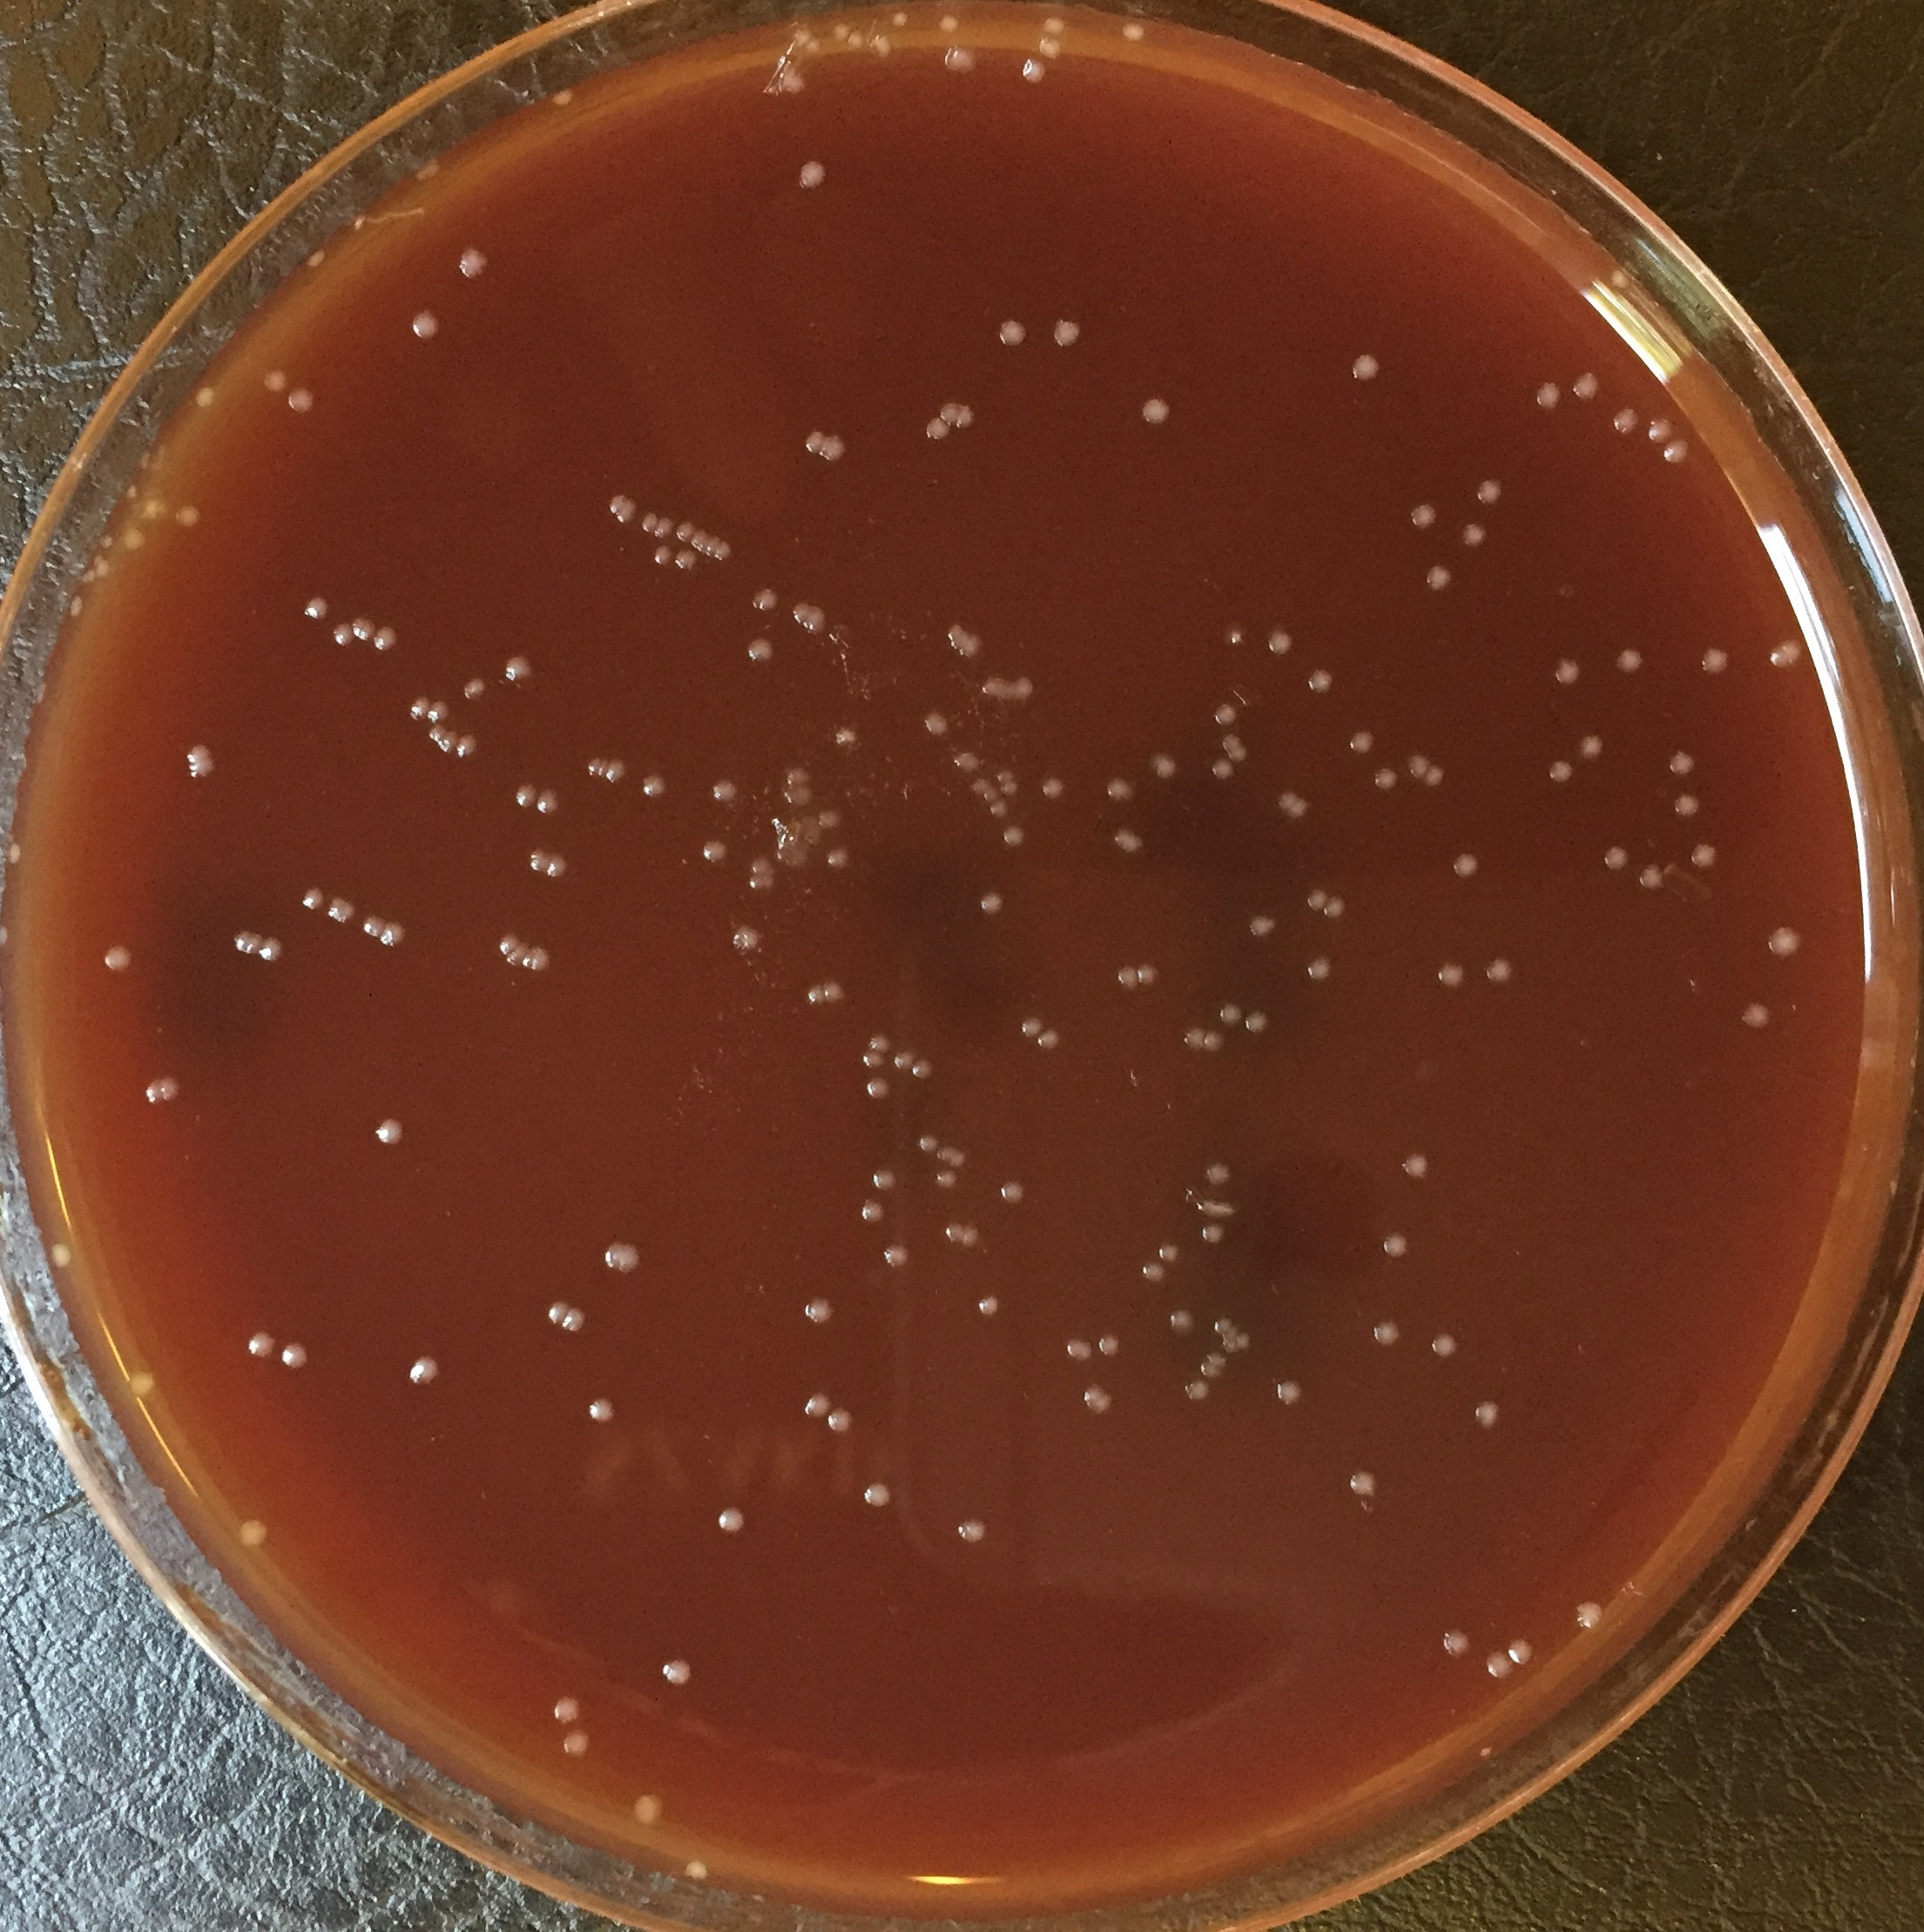sp23: (798, 1292, 849, 1334), (0, 820, 39, 873), (631, 1791, 671, 1830), (1149, 746, 1186, 786), (795, 153, 830, 194), (770, 60, 810, 95), (1191, 1190, 1235, 1222), (102, 943, 141, 978), (296, 247, 333, 282), (1050, 314, 1084, 353), (943, 44, 981, 78), (657, 1655, 698, 1687), (999, 820, 1034, 855), (1469, 1396, 1505, 1431), (1767, 925, 1802, 961), (715, 1502, 752, 1535), (997, 316, 1034, 349), (1136, 393, 1173, 427), (728, 925, 763, 959), (539, 78, 574, 111), (872, 30, 907, 63), (1348, 353, 1385, 384), (1099, 776, 1138, 806), (1082, 1382, 1115, 1416), (1274, 1377, 1307, 1410), (1438, 1627, 1471, 1661), (1570, 372, 1603, 405), (456, 247, 492, 279), (411, 307, 442, 342), (241, 1329, 278, 1359), (1166, 1306, 1198, 1340), (856, 1197, 890, 1229), (127, 1366, 160, 1398), (238, 1516, 271, 1548), (155, 1070, 187, 1103), (1545, 756, 1579, 788), (118, 525, 152, 557), (981, 673, 1017, 703), (407, 1356, 442, 1386), (284, 384, 319, 414), (62, 596, 86, 638), (1381, 1229, 1413, 1260), (1698, 645, 1730, 677), (1550, 656, 1582, 687), (1348, 726, 1380, 758), (1473, 476, 1505, 508), (523, 945, 557, 975), (1399, 1151, 1432, 1181), (1644, 412, 1674, 446), (1017, 55, 1050, 85), (640, 767, 670, 800), (699, 836, 729, 869), (747, 585, 781, 615), (1485, 1648, 1515, 1680), (1506, 1634, 1536, 1666), (1203, 1158, 1233, 1190), (278, 1340, 308, 1371), (802, 1391, 835, 1419), (1429, 1329, 1462, 1357), (1244, 1005, 1272, 1038), (374, 1118, 407, 1146), (1265, 629, 1299, 658), (1306, 668, 1339, 696), (1535, 377, 1563, 411), (957, 1516, 987, 1546), (707, 774, 736, 804), (1371, 1320, 1402, 1349), (1575, 1601, 1603, 1632), (1743, 999, 1771, 1031), (1434, 961, 1466, 989), (869, 1165, 900, 1193), (255, 933, 284, 964), (1612, 647, 1644, 675), (1422, 564, 1454, 592), (934, 11, 966, 39), (821, 843, 849, 874), (1348, 1468, 1381, 1495), (1635, 862, 1669, 888), (560, 1729, 594, 1756), (51, 1239, 78, 1273), (169, 506, 204, 531), (805, 35, 828, 72), (883, 1241, 913, 1269), (328, 895, 356, 925), (1575, 732, 1605, 760), (1210, 754, 1239, 784), (1408, 501, 1438, 529), (1034, 30, 1062, 60), (303, 594, 333, 622), (920, 709, 948, 739), (1484, 955, 1515, 982), (1602, 844, 1630, 873), (358, 910, 386, 938), (379, 920, 407, 948), (1667, 747, 1695, 776), (506, 654, 534, 682), (784, 783, 812, 811), (978, 888, 1006, 917), (823, 1408, 853, 1435), (551, 1698, 581, 1724), (684, 1854, 714, 1881), (951, 746, 981, 772), (190, 384, 222, 409), (863, 1481, 892, 1507), (1064, 1336, 1092, 1363), (1114, 964, 1142, 991), (1020, 1014, 1048, 1040), (863, 1075, 892, 1102), (1140, 1260, 1168, 1287), (513, 781, 539, 809), (1404, 753, 1431, 781), (934, 398, 960, 427), (1117, 19, 1145, 46), (261, 368, 289, 395), (329, 620, 358, 647), (833, 725, 862, 751), (807, 603, 832, 633), (1200, 1222, 1230, 1246), (618, 1243, 641, 1274), (548, 850, 571, 881), (604, 753, 627, 784), (745, 638, 777, 661), (0, 915, 18, 955), (187, 760, 220, 781), (544, 1299, 571, 1326), (588, 1396, 615, 1423), (1307, 955, 1334, 982), (1135, 961, 1161, 987), (1217, 1001, 1244, 1028), (1001, 1179, 1027, 1206), (137, 1079, 164, 1105), (300, 885, 326, 911), (1223, 622, 1249, 649), (564, 1304, 588, 1333), (1688, 844, 1716, 869), (1247, 913, 1276, 938), (1203, 1026, 1228, 1054), (911, 1056, 939, 1081), (934, 1167, 962, 1192), (534, 786, 559, 814), (1776, 636, 1804, 661), (1374, 765, 1399, 793), (1219, 728, 1247, 753), (1612, 404, 1637, 432), (1663, 439, 1691, 464), (819, 437, 847, 462), (374, 624, 398, 652), (1182, 1377, 1212, 1400), (1452, 853, 1478, 878), (893, 1047, 918, 1074), (506, 940, 530, 966), (1765, 645, 1792, 670), (1672, 791, 1697, 818), (1462, 520, 1489, 545), (923, 418, 950, 442), (800, 428, 826, 453), (1040, 14, 1066, 39), (351, 617, 377, 642), (426, 698, 451, 725), (955, 405, 978, 434), (782, 763, 810, 786), (527, 844, 548, 874), (1321, 895, 1346, 920), (976, 1292, 1001, 1317), (1212, 702, 1237, 726), (823, 980, 847, 1005), (1041, 776, 1066, 800), (1038, 1029, 1064, 1052), (497, 931, 520, 957), (407, 695, 430, 721), (747, 874, 775, 895), (791, 19, 809, 53), (967, 779, 997, 799), (1098, 1333, 1122, 1356), (1424, 762, 1447, 786), (462, 677, 486, 700), (437, 730, 460, 754), (788, 599, 812, 622), (886, 9, 913, 30), (603, 1239, 622, 1267), (749, 857, 777, 876), (460, 730, 477, 760), (960, 638, 983, 661), (1184, 1026, 1207, 1049), (916, 1132, 939, 1155), (1158, 1241, 1180, 1264), (987, 797, 1010, 820), (1304, 888, 1328, 910), (869, 1033, 893, 1054), (936, 1144, 960, 1165), (960, 1222, 981, 1246), (231, 929, 252, 954), (818, 806, 842, 827), (618, 499, 640, 524), (1270, 790, 1299, 807), (1288, 797, 1311, 818), (1124, 832, 1147, 853), (606, 494, 629, 515), (675, 520, 696, 543), (677, 548, 698, 571), (187, 742, 213, 760), (847, 32, 869, 53), (652, 545, 673, 566), (1200, 1361, 1223, 1380), (1235, 1329, 1254, 1352), (803, 982, 823, 1005), (1018, 673, 1038, 696), (714, 541, 733, 564), (247, 929, 263, 955), (1212, 1313, 1232, 1334), (944, 1222, 964, 1243), (1228, 744, 1249, 763), (428, 721, 448, 742), (655, 518, 675, 539), (1207, 1350, 1230, 1368), (828, 26, 853, 42), (97, 564, 116, 583), (865, 1054, 886, 1072), (641, 509, 657, 532), (997, 783, 1020, 797), (995, 769, 1015, 784), (587, 754, 599, 777), (596, 754, 608, 777), (943, 626, 964, 638), (1225, 1326, 1235, 1341), (1225, 1340, 1235, 1352)
